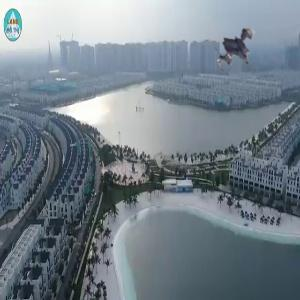drone: (203, 14, 261, 72)
